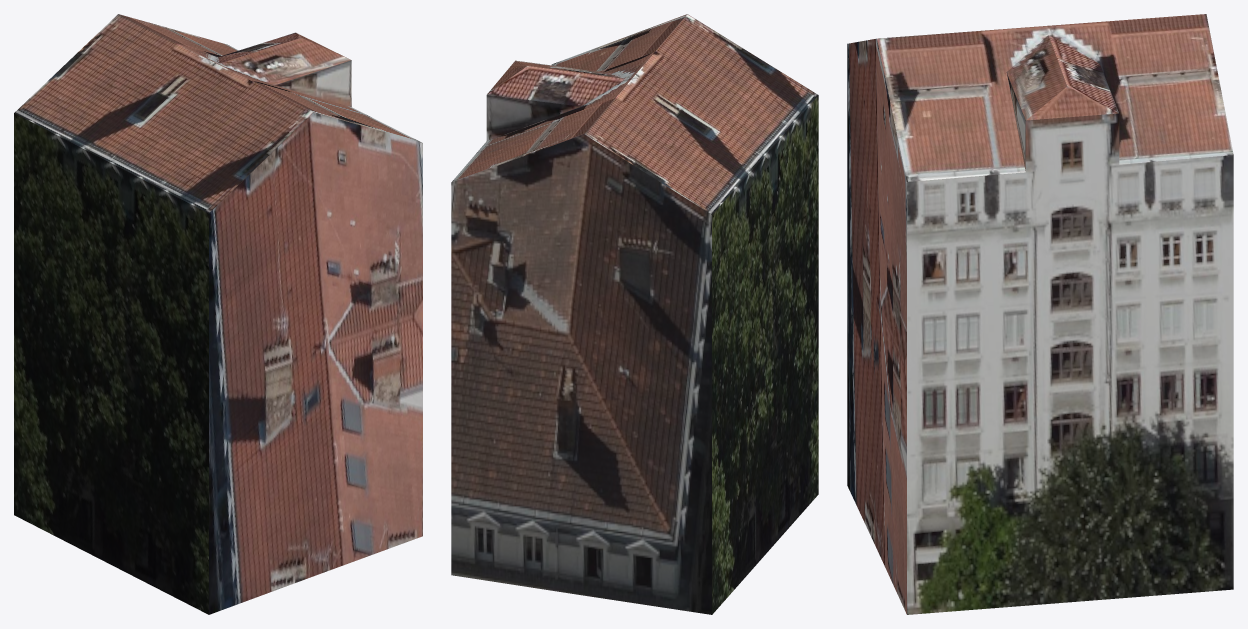
3 renders of one model, left to right at view 1: azimuth 30°, elevation 25°; view 2: azimuth 150°, elevation 25°; view 3: azimuth 270°, elevation 25°, orthographic. The views are drawn at different scales.
Visible parts, largest first — view 1: Z_UP; view 2: Z_UP; view 3: Z_UP.
Part boxes in pixels (<box>): Z_UP: <box>14,14,422,614</box>; Z_UP: <box>451,14,818,614</box>; Z_UP: <box>847,14,1233,614</box>.
Bounding box in the file's own units: 17.52 × 27.27 × 18.7.
2 materials, 1 textured.
